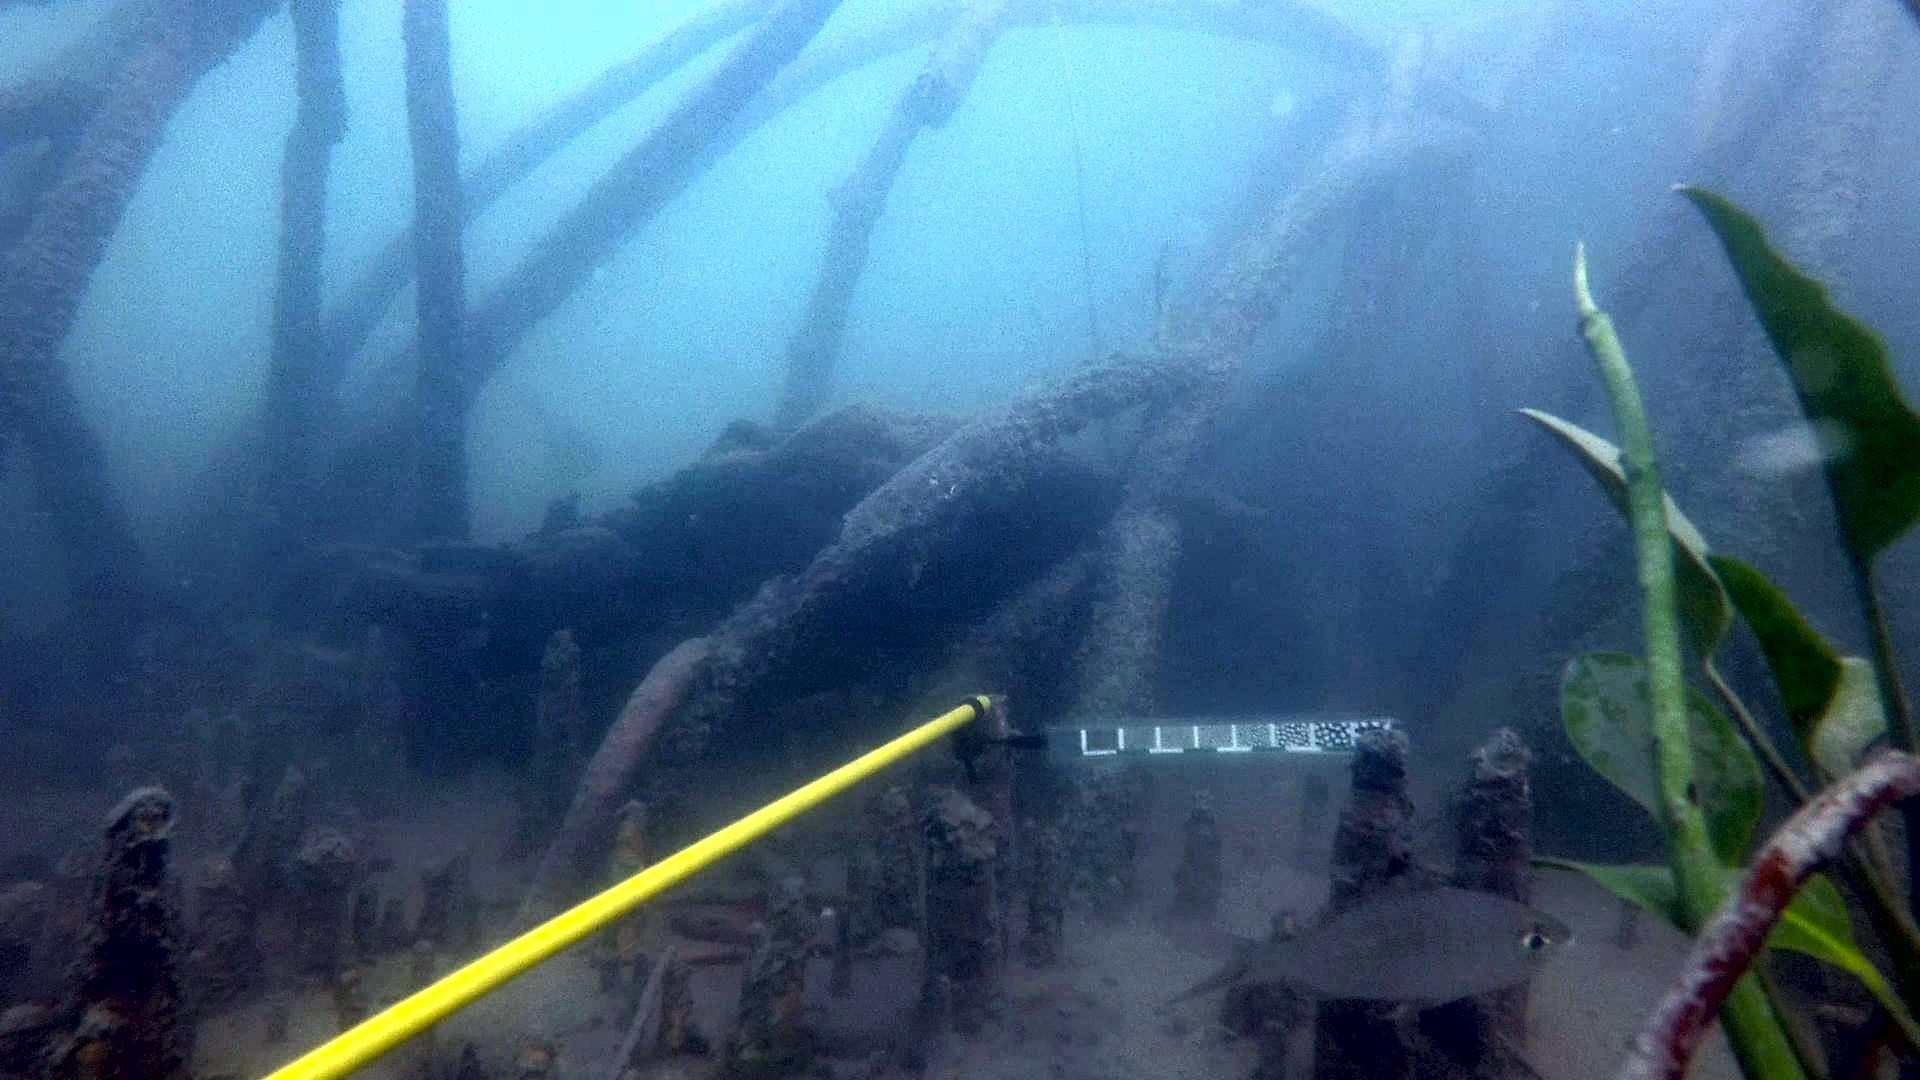gerres: (1138, 838, 1580, 1011)
